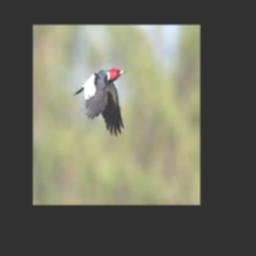Woodpecker: (72, 67, 126, 136)
